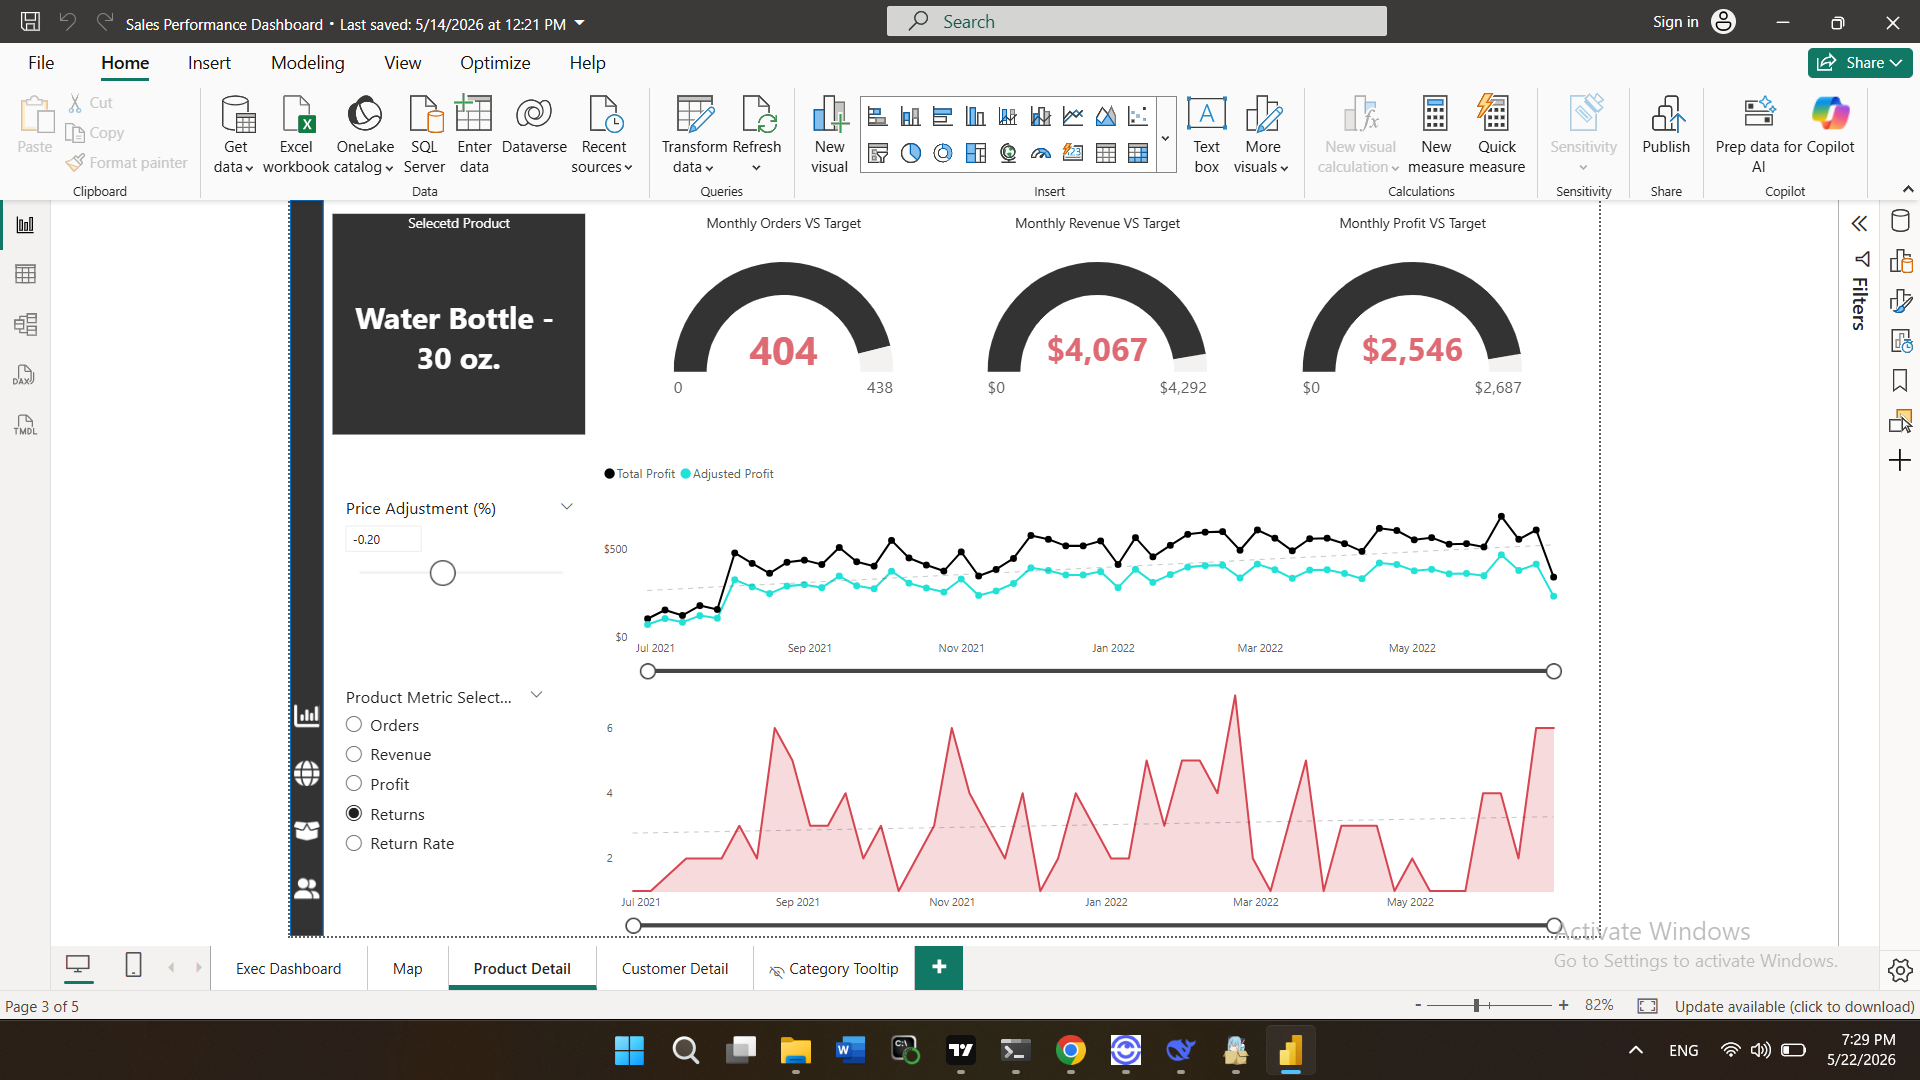

The page's visual inventory and layout, read from the dashboard file:
{"tool":"powerbi","page":{"name":"Product Detail","canvas":[1280,720],"ordinal":2},"visuals":[{"type":"shape","box":[0,0,32.9,720],"z":0},{"type":"gauge","title":"Monthly Orders VS Target","fields":{"MaxValue":["Measures Table.Order Target"],"Y":["Measures Table.Total Orders"]},"box":[370.8,13.8,225,216.2],"z":1000},{"type":"actionButton","box":[0,484.2,33,40.4],"z":1000,"group":"g1"},{"type":"gauge","title":"Monthly Revenue VS Target","fields":{"MaxValue":["Measures Table.Revenue Target"],"Y":["Measures Table.Total Revenue"]},"box":[677.9,13.8,225,216.2],"z":2000},{"type":"actionButton","box":[0,540.5,33,40.4],"z":2000,"group":"g1"},{"type":"gauge","title":"Monthly Profit VS Target","fields":{"MaxValue":["Measures Table.Profit Target"],"Y":["Measures Table.Total Profit"]},"box":[985,13.8,225,216.2],"z":3000},{"type":"actionButton","box":[0,596.7,33,40.4],"z":3000,"group":"g1"},{"type":"lineChart","title":"Profit Trending","fields":{"Category":["Calendar Lookup.Date Hierarchy.Start of Year","Calendar Lookup.Date Hierarchy.Start of Month","Calendar Lookup.Date Hierarchy.Start of Week","Calendar Lookup.Date Hierarchy.Date"],"Y":["Measures Table.Total Profit","Measures Table.Adjusted Profit"]},"box":[301.7,248.3,963.3,223.3],"z":4000},{"type":"actionButton","box":[0,653,33,40.4],"z":4000,"group":"g1"},{"type":"areaChart","title":"Returns Trending","fields":{"Category":["Calendar Lookup.Date Hierarchy.Start of Year","Calendar Lookup.Date Hierarchy.Start of Month","Calendar Lookup.Date Hierarchy.Start of Week","Calendar Lookup.Date Hierarchy.Date"],"Y":["Measures Table.Total Returns"]},"box":[300.8,470.8,964.8,249.5],"z":5000},{"type":"card","title":"Selecetd Product","fields":{"Values":["Min(Product Lookup.ProductName)"]},"box":[41.2,13.8,247.5,216.2],"z":6000},{"type":"group","id":"g1","title":"Navigation Buttons","box":[0,484.2,33,209.1],"z":7000},{"type":"slicer","fields":{"Values":["Price Adjustment (%).Price Adjustment (%)"]},"box":[41.7,285,248.3,150],"z":8000},{"type":"slicer","fields":{"Values":["Product Metric Selection.Product Metric Selection"]},"box":[41.2,470,218.8,182.5],"z":9000}]}

Visuals, with their boxes on the page's 1280x720 design canvas (x1, y1, x2, y2). These are canvas units, not pixel positions in the 1920x1080 screenshot, which may show the page scaled, cropped or inside an application window:
shape: crop(0, 0, 33, 720)
"Monthly Orders VS Target" gauge: crop(371, 14, 596, 230)
actionButton: crop(0, 484, 33, 525)
"Monthly Revenue VS Target" gauge: crop(678, 14, 903, 230)
actionButton: crop(0, 540, 33, 581)
"Monthly Profit VS Target" gauge: crop(985, 14, 1210, 230)
actionButton: crop(0, 597, 33, 637)
"Profit Trending" lineChart: crop(302, 248, 1265, 472)
actionButton: crop(0, 653, 33, 693)
"Returns Trending" areaChart: crop(301, 471, 1266, 720)
"Selecetd Product" card: crop(41, 14, 289, 230)
"Navigation Buttons" group: crop(0, 484, 33, 693)
slicer - Price Adjustment (%).Price Adjustment (%): crop(42, 285, 290, 435)
slicer - Product Metric Selection.Product Metric Selection: crop(41, 470, 260, 652)
